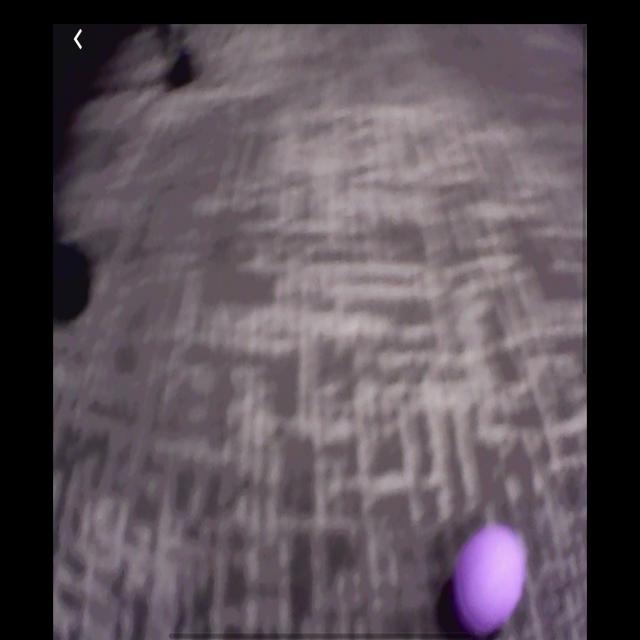ball: (452, 523, 529, 637)
